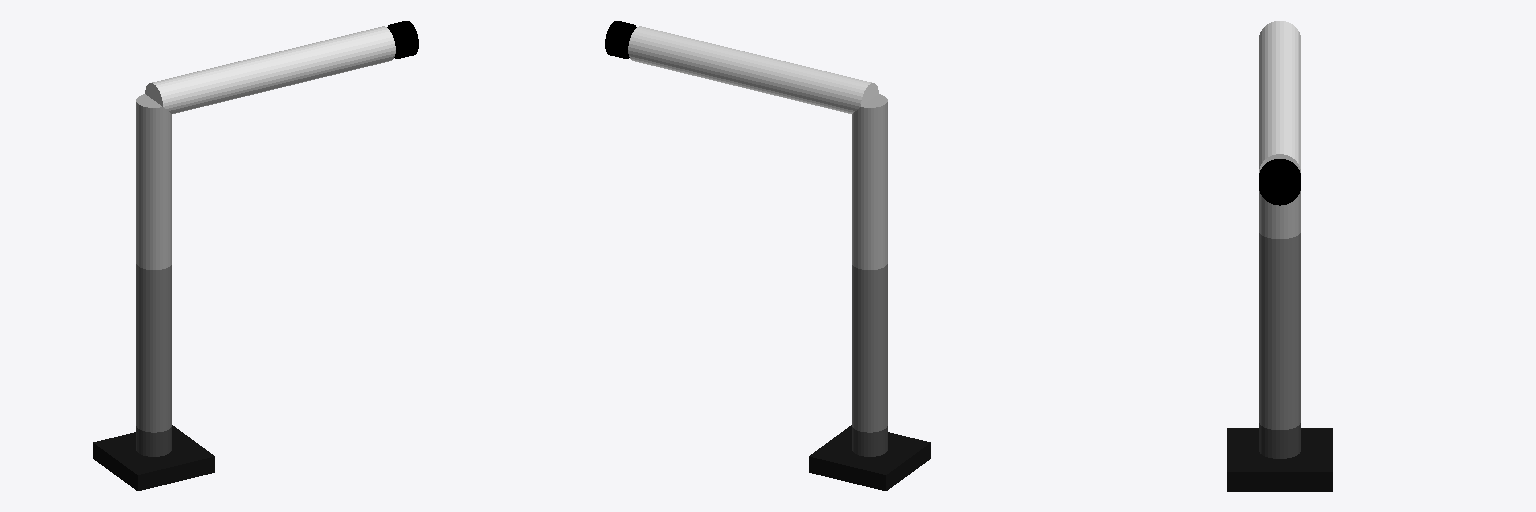
URDF robot description (robot):
<?xml version="1.0"?> 
<robot name = "robot">
	<!-- links section -->>
	<link name = "base_link">
		<inertial>
			<origin xyz = "0 0 0" />
			<mass value = "0.5" />
			<inertia ixx = "0.5" iyy = "0.5" izz = "0.5" ixy = "0" ixz = "0" iyz = "0" />
		</inertial>
		<visual>
			<origin xyz = "0 0 0" />
			<geometry>
				<box size = "0.05 0.05 0.01" />
			</geometry>
			<material name = "gray A">
				<color rgba = "0.1 0.1 0.1 1" />
			</material>
		</visual>
	</link>
	<link name = "link1">
		<inertial>
			<origin xyz = "0 0 0.01" />
			<mass value = "0.5" />
			<inertia ixx = "0.5" iyy = "0.5" izz = "0.5" ixy = "0" ixz = "0" iyz = "0" />
		</inertial>
		<visual>
			<origin xyz = "0 0 0.01" />
			<geometry>
				<cylinder radius = "0.01" length = "0.02"  />
			</geometry>
			<material name = "gray B">
				<color rgba = "0.3 0.3 0.3 1" />
			</material>
		</visual>
	</link>
    
	<!-- joints section -->>
	<joint name = "joint1" type = "continuous">
		<parent link = "base_link" />
		<child link = "link1" />
		<origin xyz = "0 0 0" />
		<axis xyz = "0 0 1" />
	</joint>

    <link name = "link2">
		<inertial>
			<origin xyz = "0 0 0.05" />
			<mass value = "0.5" />
			<inertia ixx = "0.5" iyy = "0.5" izz = "0.5" ixy = "0" ixz = "0" iyz = "0" />
		</inertial>
		<visual>
			<origin xyz = "0 0 0.05" />
			<geometry>
				<cylinder radius = "0.01" length = "0.1"  />
			</geometry>
			<material name = "gray C">
				<color rgba = "0.5 0.5 0.5 1" />
			</material>
		</visual>
	</link>

	<joint name = "joint2" type = "continuous">
		<parent link = "link1" />
		<child link = "link2" />
		<origin xyz = "0 0 0.02" />
		<axis xyz = "0 1 0" />
		<!-- <dynamics damping ="0.002" /> -->
	</joint>

	<link name = "link3">
		<inertial>
			<origin xyz = "0 0 0.05" />
			<mass value = "0.5" />
			<inertia ixx = "0.5" iyy = "0.5" izz = "0.5" ixy = "0" ixz = "0" iyz = "0" />
		</inertial>
		<visual>
			<origin xyz = "0 0 0.05" />
			<geometry>
				<cylinder radius = "0.01" length = "0.1"  />
			</geometry>
			<material name = "gray D">
				<color rgba = "0.7 0.7 0.7 1" />
			</material>
		</visual>
	</link>

	<joint name = "joint3" type = "continuous">
		<parent link = "link2" />
		<child link = "link3" />
		<origin xyz = "0 0 0.1" />
		<axis xyz = "0 1 0" />
	</joint>

	<link name = "link4">
		<inertial>
			<origin xyz = "0 0 0.075" />
			<mass value = "0.5" />
			<inertia ixx = "0.5" iyy = "0.5" izz = "0.5" ixy = "0" ixz = "0" iyz = "0" />
		</inertial>
		<visual>
			<origin xyz = "0 0 0.075" />
			<geometry>
				<cylinder radius = "0.01" length = "0.15"  />
			</geometry>
			<material name = "gray E">
				<color rgba = "0.9 0.9 0.9 1" />
			</material>
		</visual>
	</link>

	<joint name = "joint4" type = "continuous">
		<parent link = "link3" />
		<child link = "link4" />
		<origin xyz = "0 0 0.1" rpy="0 1.5708 0" />
		<axis xyz = "0 1 0" />
	</joint>

	<link name = "link5">
		<inertial>
			<origin xyz = "0 0 0.01" />
			<mass value = "0.01" />
			<inertia ixx = "0.5" iyy = "0.5" izz = "0.5" ixy = "0" ixz = "0" iyz = "0" />
		</inertial>
		<visual>
			<origin xyz = "0 0 0.01" />
			<geometry>
				<cylinder radius = "0.01" length = "0.01"  />
			</geometry>
			<material name = "gray F">
				<color rgba = "0 0 0 1" />
			</material>
		</visual>
	</link>

	<joint name = "joint5" type = "fixed">
		<parent link = "link4" />
		<child link = "link5" />
		<origin xyz = "0 0 0.15" rpy="0 0 0" />
		<axis xyz = "0 1 0" />
	</joint>
	
	

</robot>

--- Render facts (derived) ---
Views: 3 orthographic renders of the robot side by side, from view 1: azimuth 30°, elevation 25°; view 2: azimuth 150°, elevation 25°; view 3: azimuth 270°, elevation 25°.
Robot: robot — 6 links, 5 joints (4 continuous, 1 fixed); root link base_link; default pose: every joint at zero.
Visible links, largest first — view 1: link4, link3, link2, base_link, link1, link5; view 2: link4, link3, link2, base_link, link1, link5; view 3: link2, link4, base_link, link5, link3, link1.
Link boxes in pixels (bbox=[...]): link4: bbox=[145, 26, 395, 113]; link3: bbox=[136, 94, 171, 269]; link2: bbox=[136, 264, 171, 432]; base_link: bbox=[93, 425, 214, 490]; link1: bbox=[136, 426, 171, 456]; link5: bbox=[387, 21, 418, 58]; link4: bbox=[628, 26, 878, 113]; link3: bbox=[852, 94, 887, 269]; link2: bbox=[852, 264, 887, 432]; base_link: bbox=[809, 425, 930, 490]; link1: bbox=[852, 426, 887, 456]; link5: bbox=[605, 21, 636, 58]; link2: bbox=[1259, 233, 1300, 429]; link4: bbox=[1259, 21, 1300, 172]; base_link: bbox=[1227, 428, 1332, 491]; link5: bbox=[1259, 159, 1300, 205]; link3: bbox=[1259, 191, 1300, 238]; link1: bbox=[1259, 423, 1300, 458].
Size in the robot's own frame: 0.19 by 0.05 by 0.235 metres.
Geometry: primitives only (box / cylinder / sphere), no mesh files.